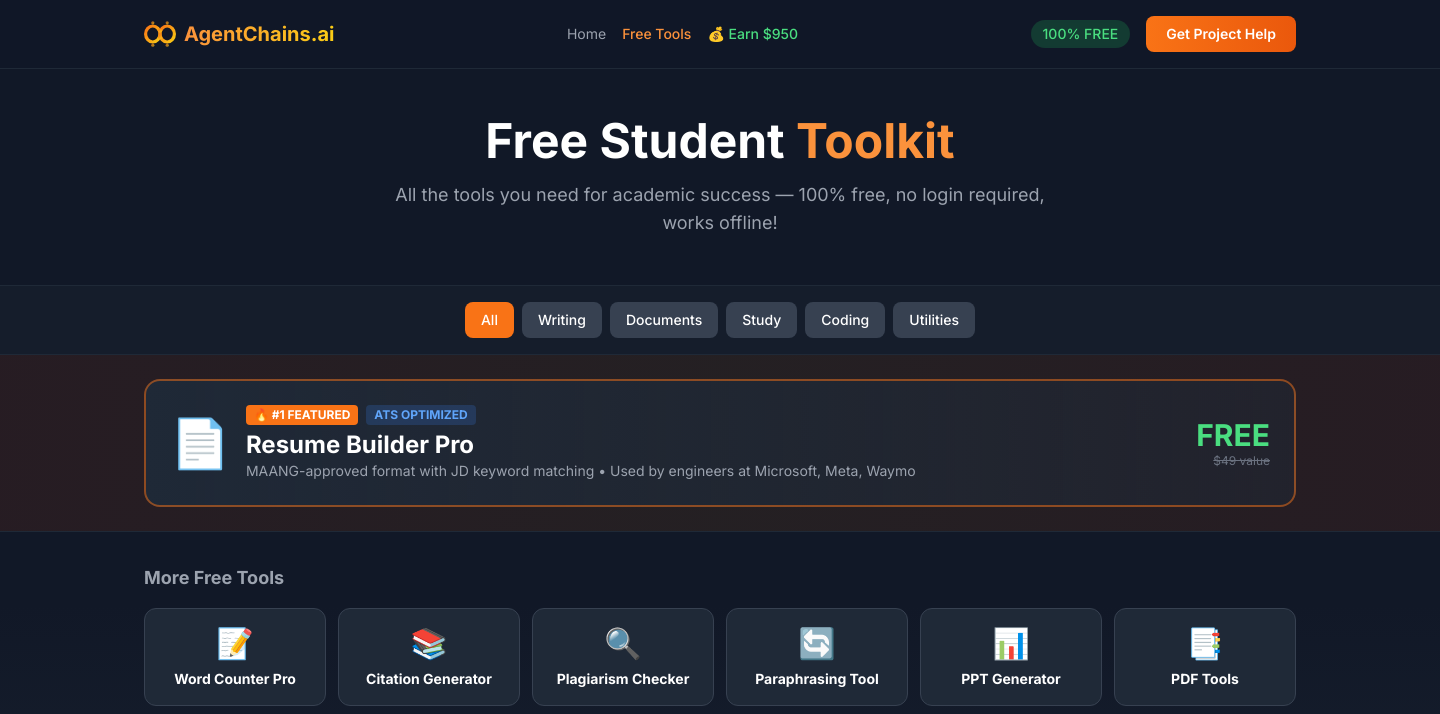
Plagiarism Checker › shows 0% similarity for different texts
The width and height of the screenshot is (1440, 714).
Step 1. Click the text "Plagiarism Checker" → (623, 679), box [549,669,697,689]
(page scrolled)
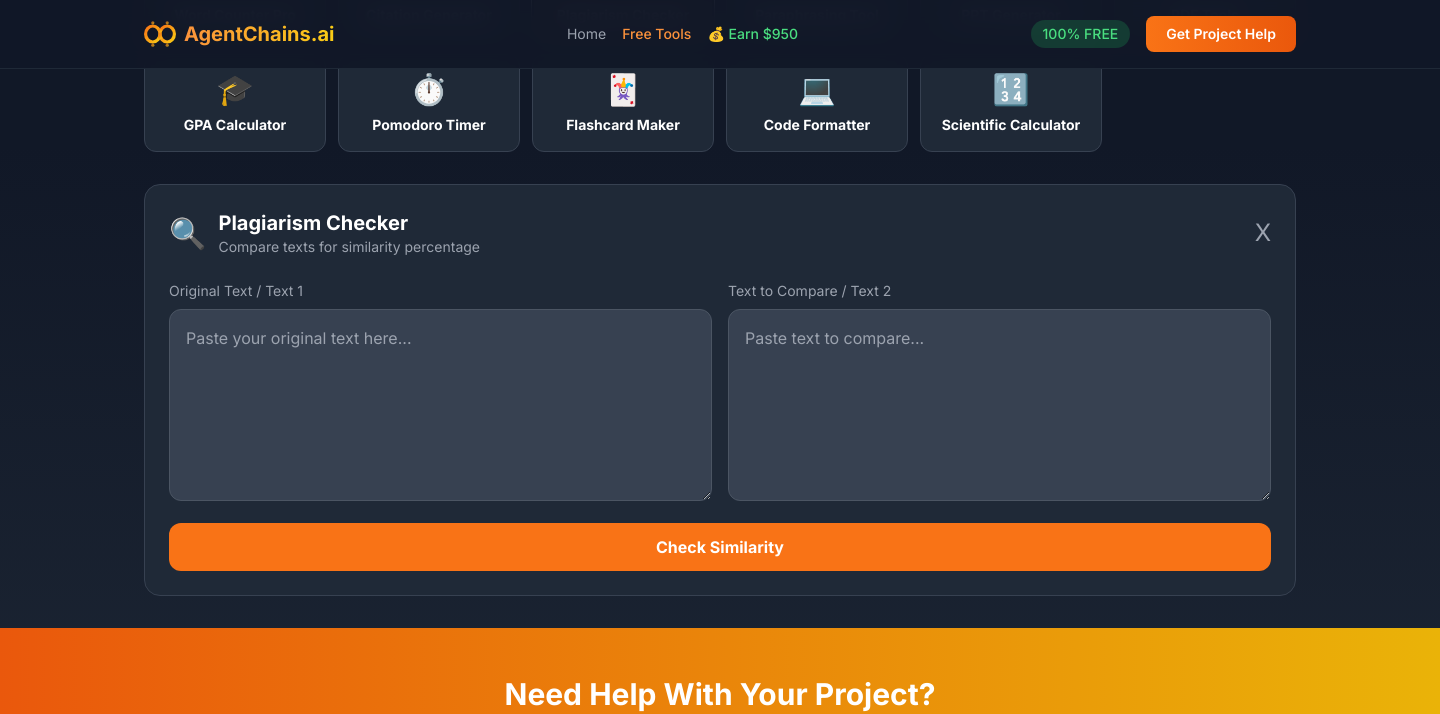
Step 2. Type "The quick brown fox jumps over the lazy dog" into the text box with placeholder "Paste your original text here..." → (440, 405), box [169,309,712,501]
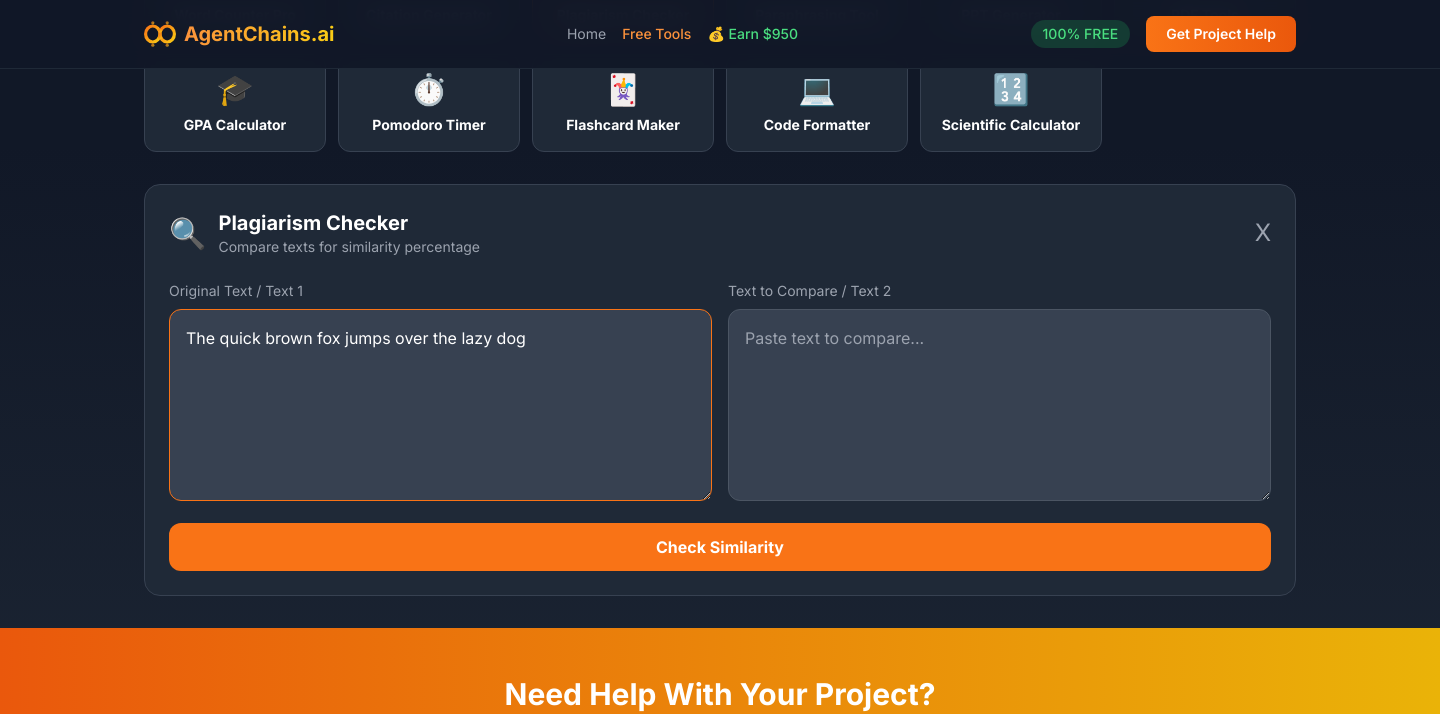
Step 3. Type "A completely different sentence with no similarities" into the text box with placeholder "Paste text to compare..." → (1000, 405), box [728,309,1271,501]
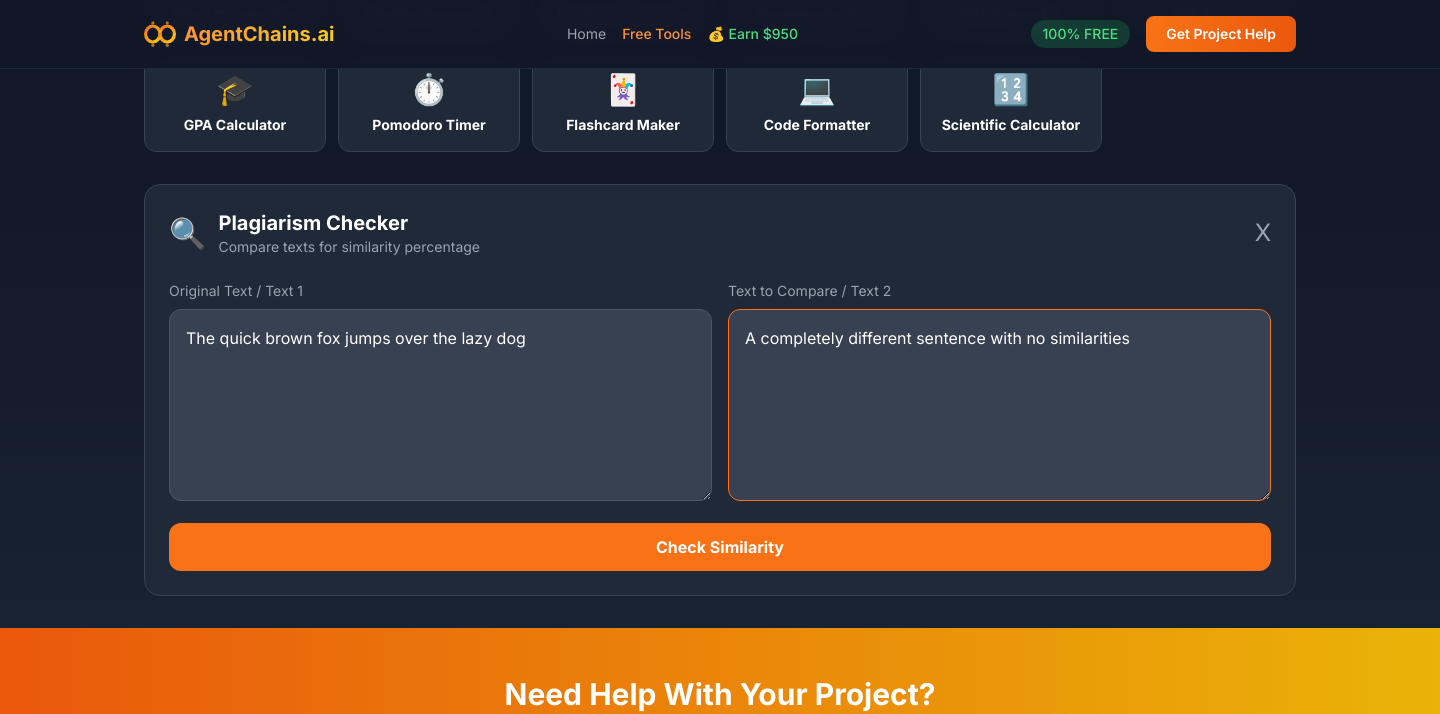
Step 4. Click the button "Check Similarity" → (720, 547), box [169,523,1271,571]
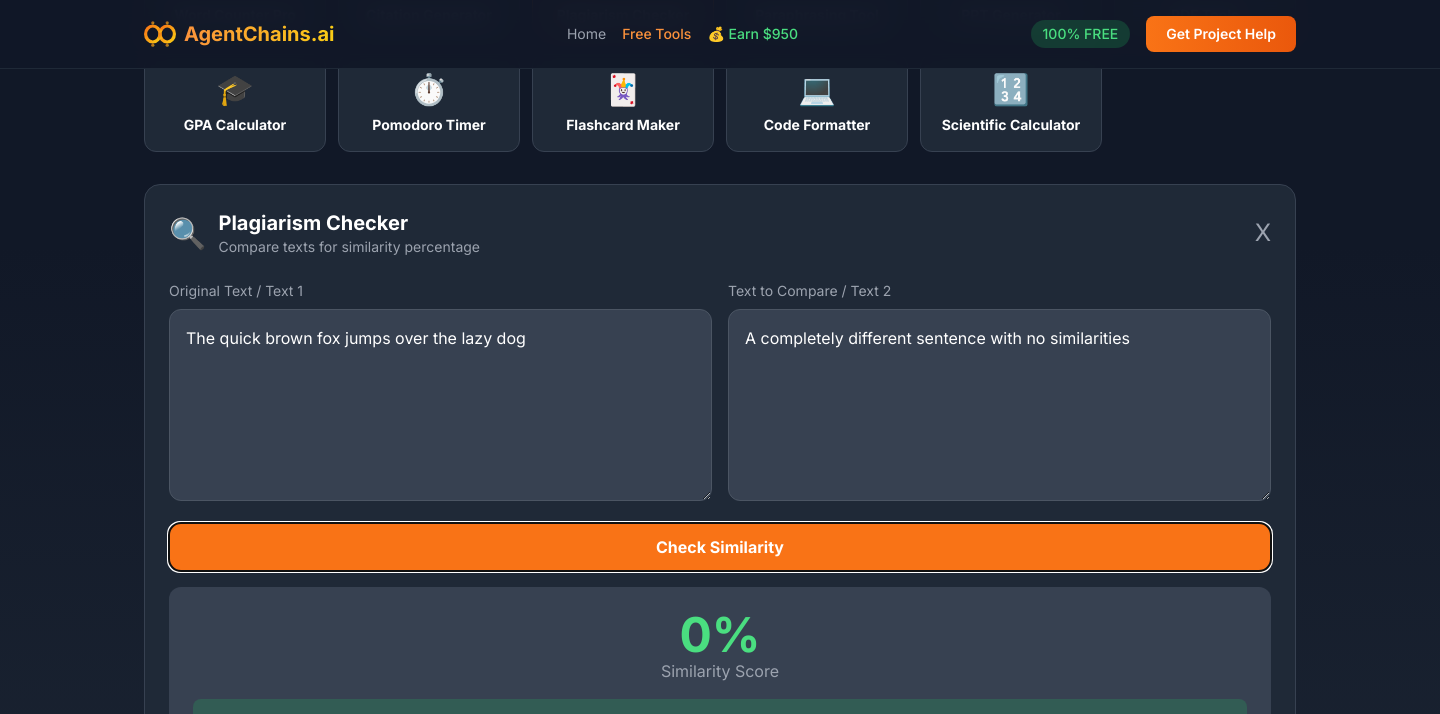
Expected: the text "0%" is shown, [679,605,760,664]
